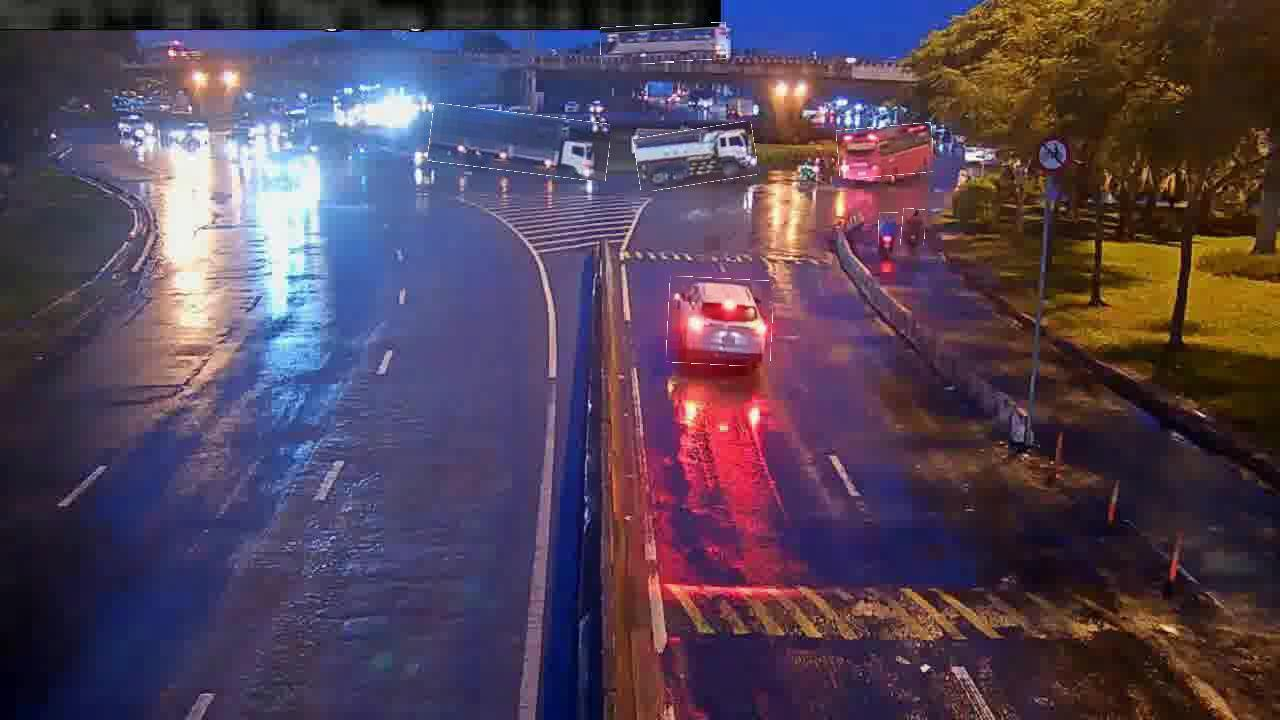car: (667, 278, 773, 366)
container: (429, 109, 610, 177), (635, 126, 757, 188)
motorbike: (901, 209, 926, 246), (879, 212, 899, 255)
passenger_car: (837, 124, 934, 177), (601, 24, 727, 64)
